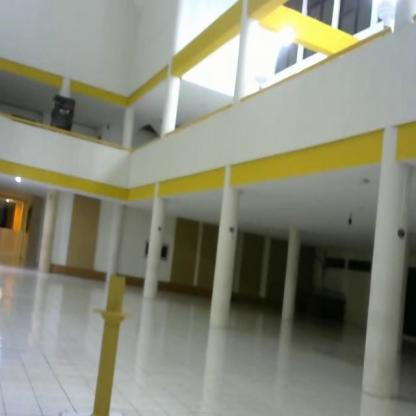pole: (88, 267, 139, 416)
